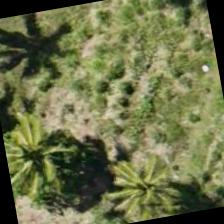Kelapa_Sawit: (0, 103, 93, 206), (83, 137, 186, 223)
